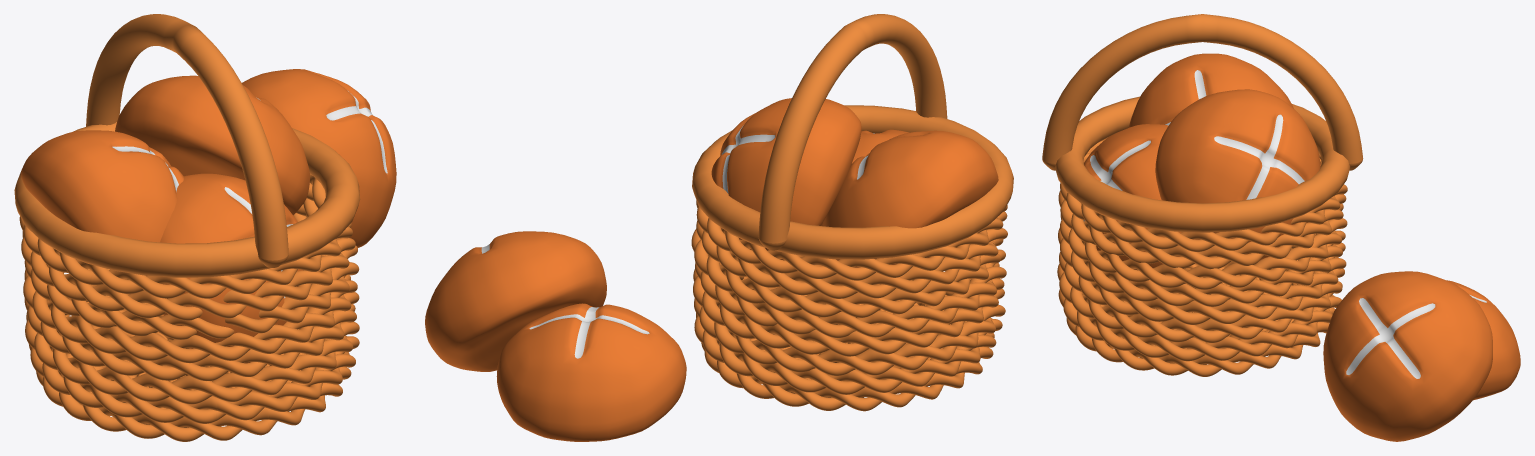
The model's file is bread.fbx.
3 views of the same model, side by side, from view 1: azimuth 30°, elevation 25°; view 2: azimuth 150°, elevation 25°; view 3: azimuth 270°, elevation 25° (orthographic). The views are drawn at different scales.
Visible parts, largest first — view 1: Circle.002, Circle.013, Roundcube.001, Circle.014, Roundcube.002, Roundcube.004, Roundcube.003, Circle.001, Circle; view 2: Circle.002, Roundcube.005, Roundcube.004, Circle.013, Roundcube.001, Circle.014, Roundcube.002, Circle.001, Circle, Roundcube.003; view 3: Circle.002, Roundcube.004, Roundcube.002, Circle.013, Circle.014, Roundcube.001, Circle.001, Roundcube.003, Circle, Roundcube.005.
Boxes of the visible parts, x1=… form: Circle.002: x1=19, y1=174, x2=359, y2=427; Circle.013: x1=14, y1=122, x2=360, y2=277; Roundcube.001: x1=21, y1=130, x2=183, y2=275; Circle.014: x1=86, y1=14, x2=288, y2=267; Roundcube.002: x1=115, y1=75, x2=309, y2=215; Roundcube.004: x1=242, y1=69, x2=396, y2=247; Roundcube.003: x1=160, y1=173, x2=302, y2=363; Circle.001: x1=29, y1=294, x2=359, y2=423; Circle: x1=36, y1=303, x2=351, y2=441; Circle.002: x1=691, y1=200, x2=1007, y2=397; Roundcube.005: x1=496, y1=303, x2=686, y2=441; Roundcube.004: x1=425, y1=231, x2=606, y2=371; Circle.013: x1=692, y1=105, x2=1013, y2=259; Roundcube.001: x1=823, y1=130, x2=998, y2=267; Circle.014: x1=758, y1=14, x2=947, y2=250; Roundcube.002: x1=711, y1=98, x2=861, y2=260; Circle.001: x1=694, y1=265, x2=1002, y2=394; Circle: x1=701, y1=280, x2=994, y2=411; Roundcube.003: x1=821, y1=129, x2=956, y2=264; Circle.002: x1=1057, y1=138, x2=1347, y2=364; Roundcube.004: x1=1323, y1=271, x2=1492, y2=441; Roundcube.002: x1=1155, y1=89, x2=1320, y2=260; Circle.013: x1=1055, y1=96, x2=1350, y2=232; Circle.014: x1=1042, y1=14, x2=1363, y2=170; Roundcube.001: x1=1128, y1=53, x2=1293, y2=127; Circle.001: x1=1058, y1=248, x2=1342, y2=361; Roundcube.003: x1=1083, y1=124, x2=1193, y2=288; Circle: x1=1066, y1=256, x2=1335, y2=376; Roundcube.005: x1=1447, y1=280, x2=1520, y2=400.
Size of the model in its own units: 383 by 278 by 391.
